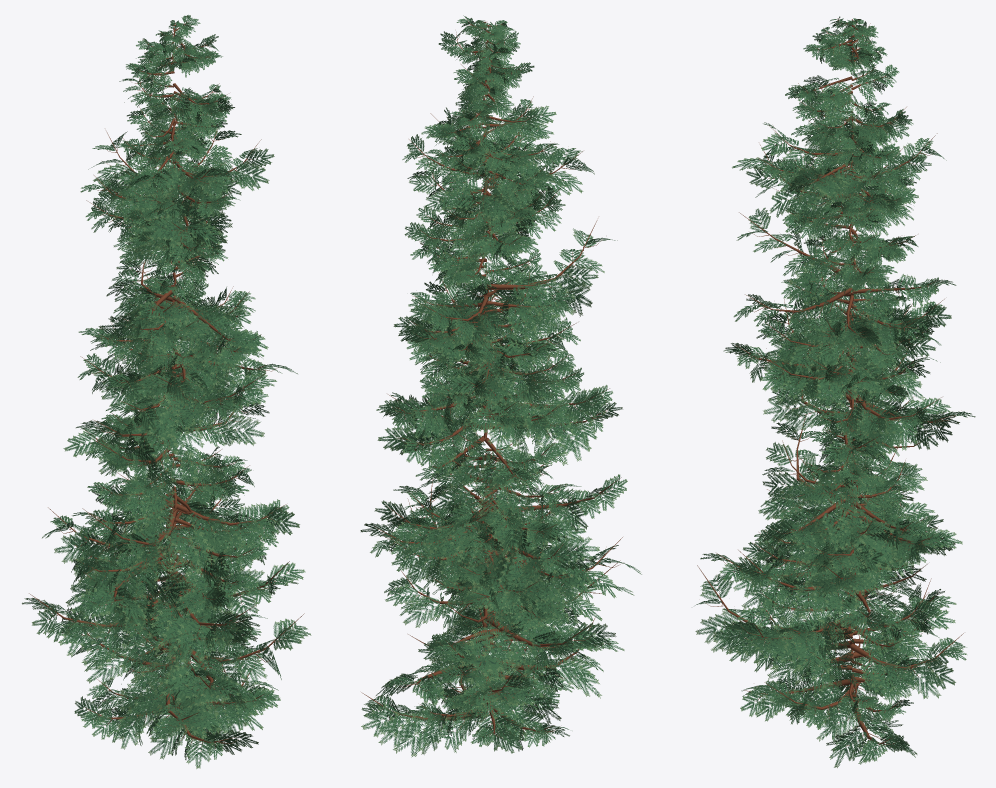
File: forest-giant-lod1.glb
3 renders of one model, left to right at view 1: azimuth 30°, elevation 25°; view 2: azimuth 150°, elevation 25°; view 3: azimuth 270°, elevation 25°, orthographic.
Visible parts, largest first — view 1: redwood-crown; view 2: redwood-crown; view 3: redwood-crown.
Part boxes in pixels (x1,y1,x2,y2): redwood-crown: (22, 15, 311, 768); redwood-crown: (360, 15, 641, 757); redwood-crown: (695, 16, 975, 767).
Size of the model in its own units: 22.61 by 62.26 by 23.3.
Materials: 4 (3 with a texture image).
